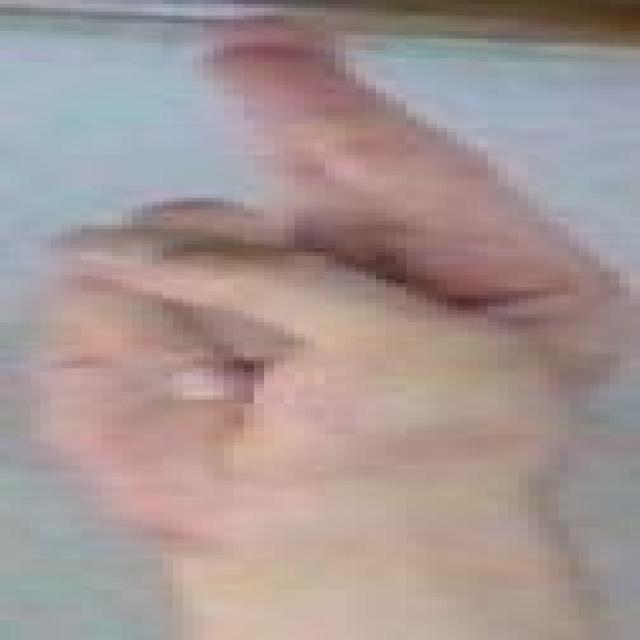R: (13, 2, 640, 530)
